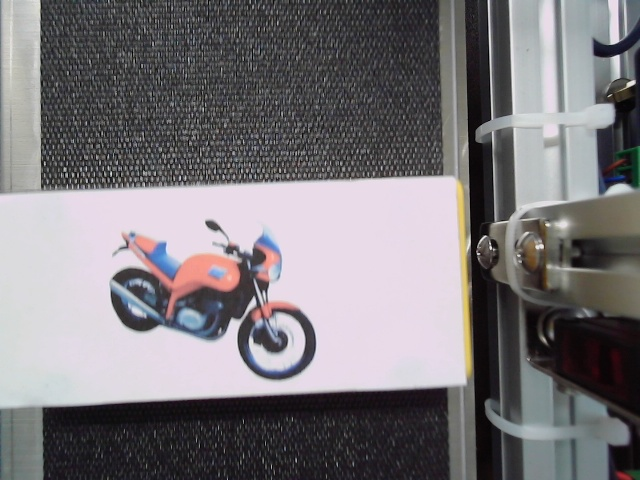motorcycle: (111, 217, 322, 384)
